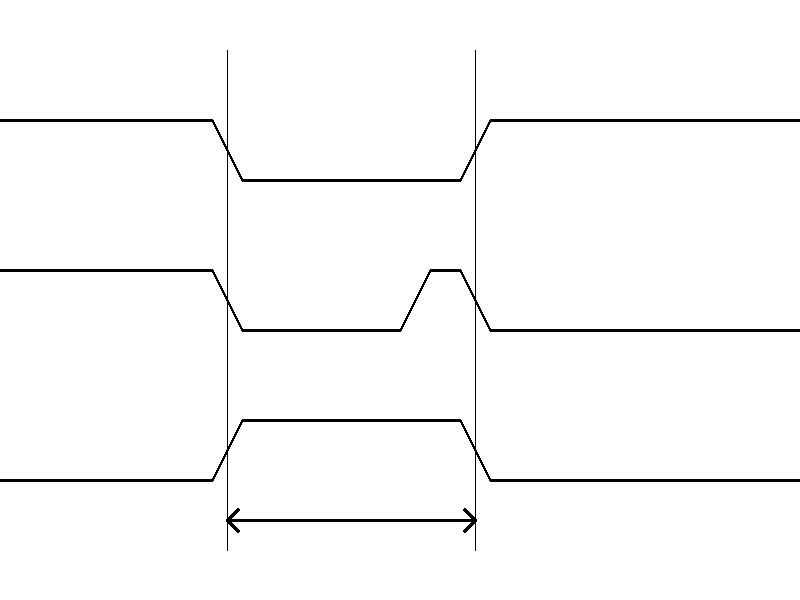double_arrow: (227, 505, 475, 535)
